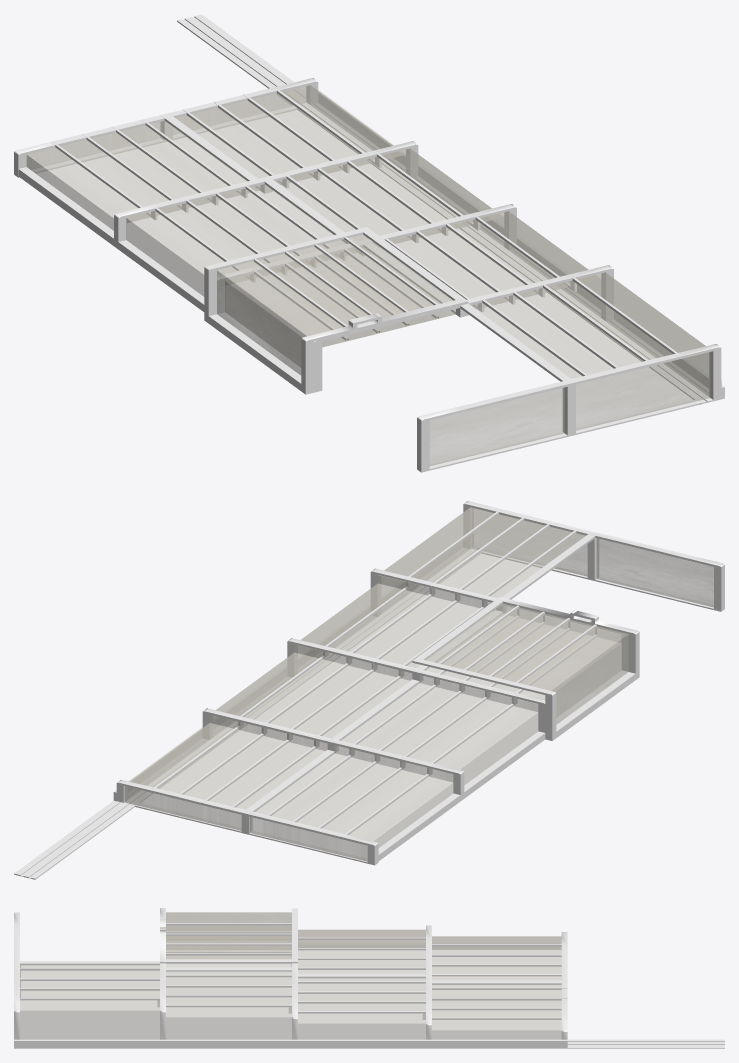
Rendered from rollerCoverElisa.glb.
The picture shows the model from 3 angles, top to bottom: view 1: azimuth 30°, elevation 25°; view 2: azimuth 150°, elevation 25°; view 3: azimuth 270°, elevation 25°; orthographic projection. The views are drawn at different scales.
Parts seen in each view (by area): view 1: Plane, Plane.001, Line001, Line008, Cube.050, Line011, Line009, Line004, Line009.001, Line010, Cube.007, Cube.005 (+8 smaller); view 2: Plane, Plane.001, Line001, Line008, Cube.050, Line011, Line009, Line004, Line009.001, Line010, Cube.005, Cube.006 (+8 smaller); view 3: Plane, Line001, Plane.001, Cube.050, Cube.006, Cube.007, Cube.004, Cube.005, Line011, Line008, Cube, Cube.009 (+10 smaller).
Boxes of the visible parts, <box> form: Plane: <box>26,85,710,465</box>; Plane.001: <box>217,234,452,375</box>; Line001: <box>177,14,724,404</box>; Line008: <box>204,227,468,394</box>; Cube.050: <box>160,113,575,435</box>; Line011: <box>18,141,418,248</box>; Line009: <box>118,204,516,313</box>; Line004: <box>417,344,721,471</box>; Line009.001: <box>217,265,613,392</box>; Line010: <box>14,78,318,175</box>; Cube.007: <box>275,88,679,354</box>; Cube.005: <box>214,101,618,368</box>; Plane: <box>124,507,713,861</box>; Plane.001: <box>426,603,628,724</box>; Line001: <box>14,541,480,879</box>; Line008: <box>412,597,639,740</box>; Cube.050: <box>241,534,599,834</box>; Line011: <box>202,708,464,860</box>; Line009: <box>287,638,545,798</box>; Line004: <box>463,501,724,610</box>; Line009.001: <box>370,568,628,724</box>; Line010: <box>116,780,378,864</box>; Cube.005: <box>201,524,549,804</box>; Cube.006: <box>175,518,524,798</box>; Plane: <box>20,926,561,1039</box>; Line001: <box>14,1039,724,1048</box>; Plane.001: <box>166,912,291,959</box>; Cube.050: <box>20,961,567,997</box>; Cube.006: <box>20,988,567,1010</box>; Cube.007: <box>17,998,563,1019</box>; Cube.004: <box>20,968,567,989</box>; Cube.005: <box>20,978,567,1000</box>; Line011: <box>426,925,561,1039</box>; Line008: <box>160,908,297,963</box>; Cube: <box>166,931,567,946</box>; Cube.009: <box>166,951,567,966</box>.
Bounding box in the file's own units: 1.57 × 0.2933 × 4.55.
2 materials, 1 textured.
